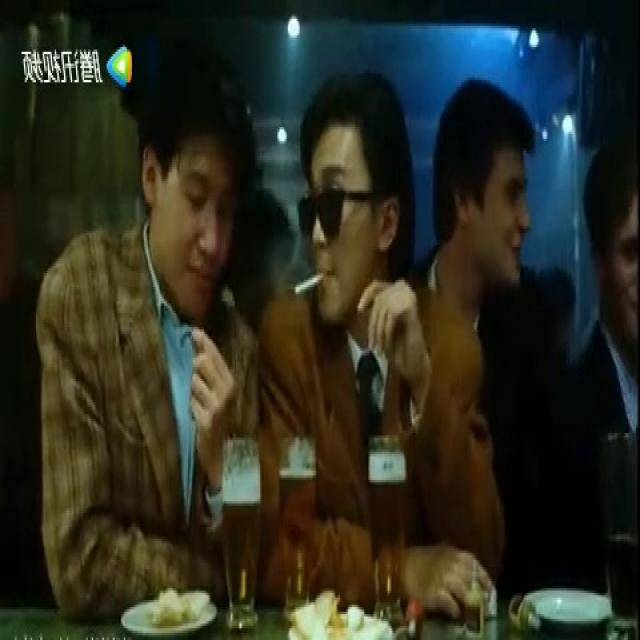smoking: (291, 265, 330, 301)
